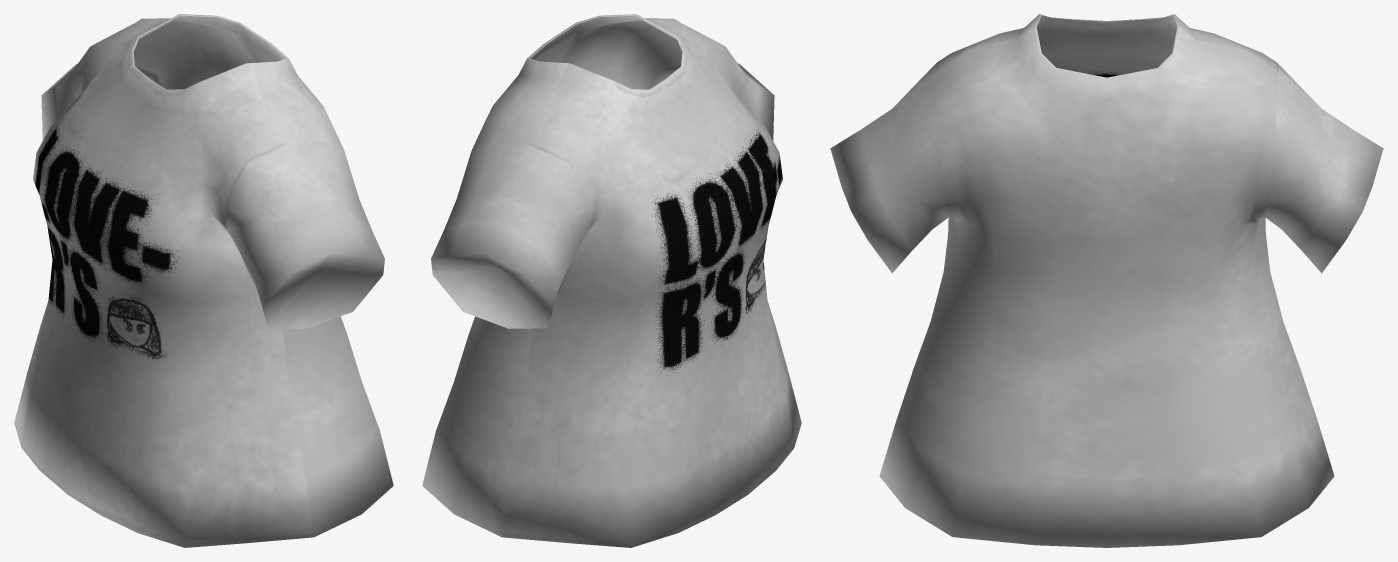
Rendered from shirt_lovers.gltf.
3 views of the same model, side by side, from view 1: azimuth 30°, elevation 25°; view 2: azimuth 150°, elevation 25°; view 3: azimuth 270°, elevation 25° (orthographic). The views are drawn at different scales.
Visible parts, largest first — view 1: Tshirt; view 2: Tshirt; view 3: Tshirt.
Part boxes in pixels (x1,y1,x2,y2): Tshirt: (14, 14, 393, 547); Tshirt: (422, 14, 801, 547); Tshirt: (830, 14, 1383, 547).
Size of the model in its own units: 0.2398 by 0.3579 by 0.3941.
1 material, 1 textured.
